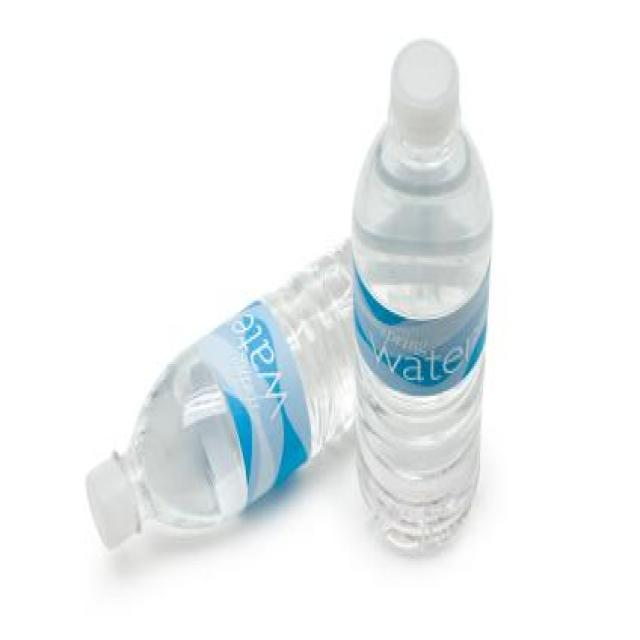plastic_bottle: (74, 221, 444, 585), (338, 36, 505, 559)
